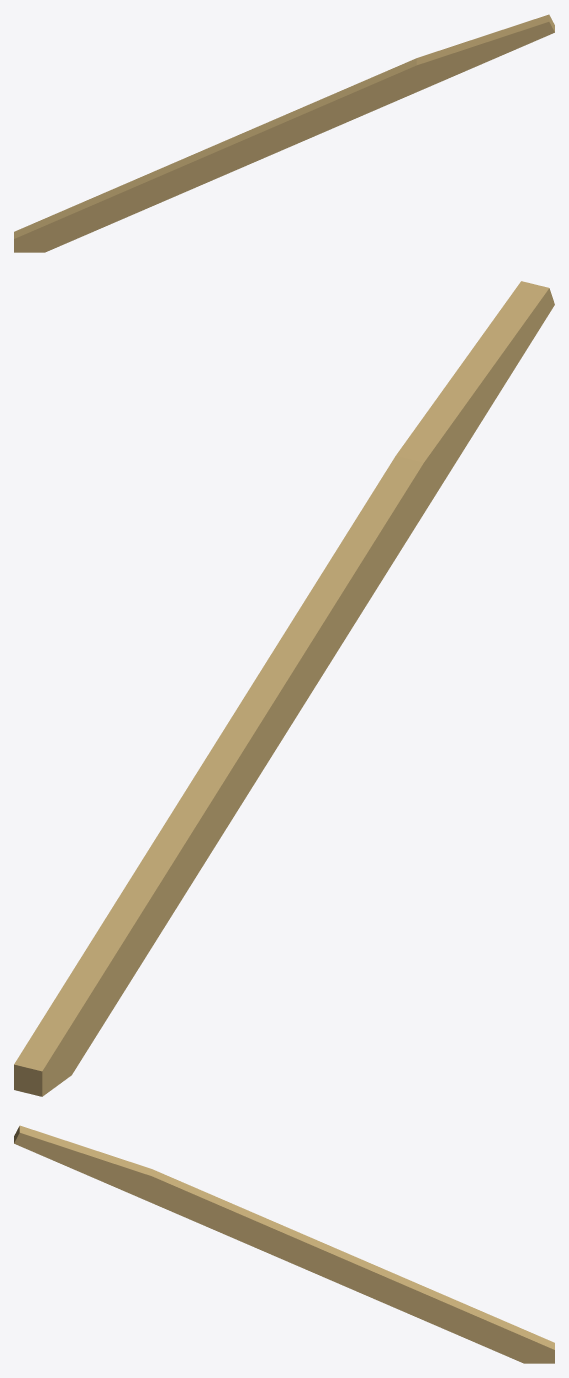
3 views of the same model, one above another, from view 1: azimuth 90°, elevation 25°; view 2: azimuth 150°, elevation 25°; view 3: azimuth 270°, elevation 25° (orthographic). The views are drawn at different scales.
Visible parts, largest first — view 1: L1-3-S9-325-WEB04; view 2: L1-3-S9-325-WEB04; view 3: L1-3-S9-325-WEB04.
Boxes of the visible parts, box(x1,y1,x2,y2) form: L1-3-S9-325-WEB04: box(14, 14, 554, 252); L1-3-S9-325-WEB04: box(14, 281, 554, 1096); L1-3-S9-325-WEB04: box(14, 1125, 554, 1363).
Size of the model in its own units: 0.045 by 0.6656 by 1.41.
